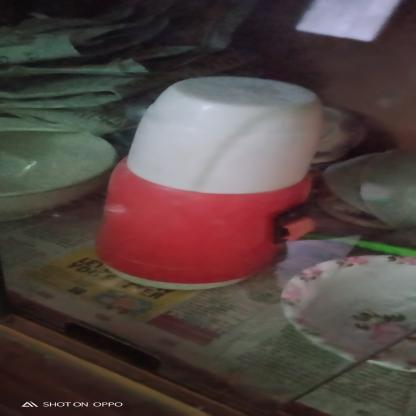bottle: (97, 74, 332, 292)
